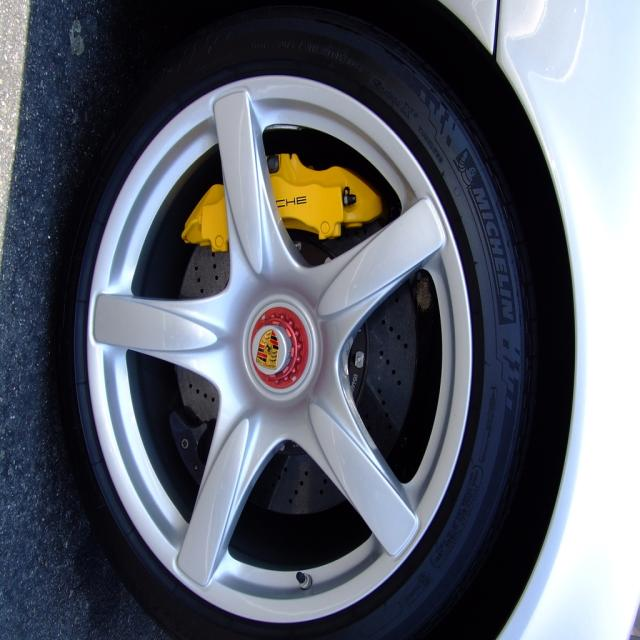car: (56, 0, 638, 638)
